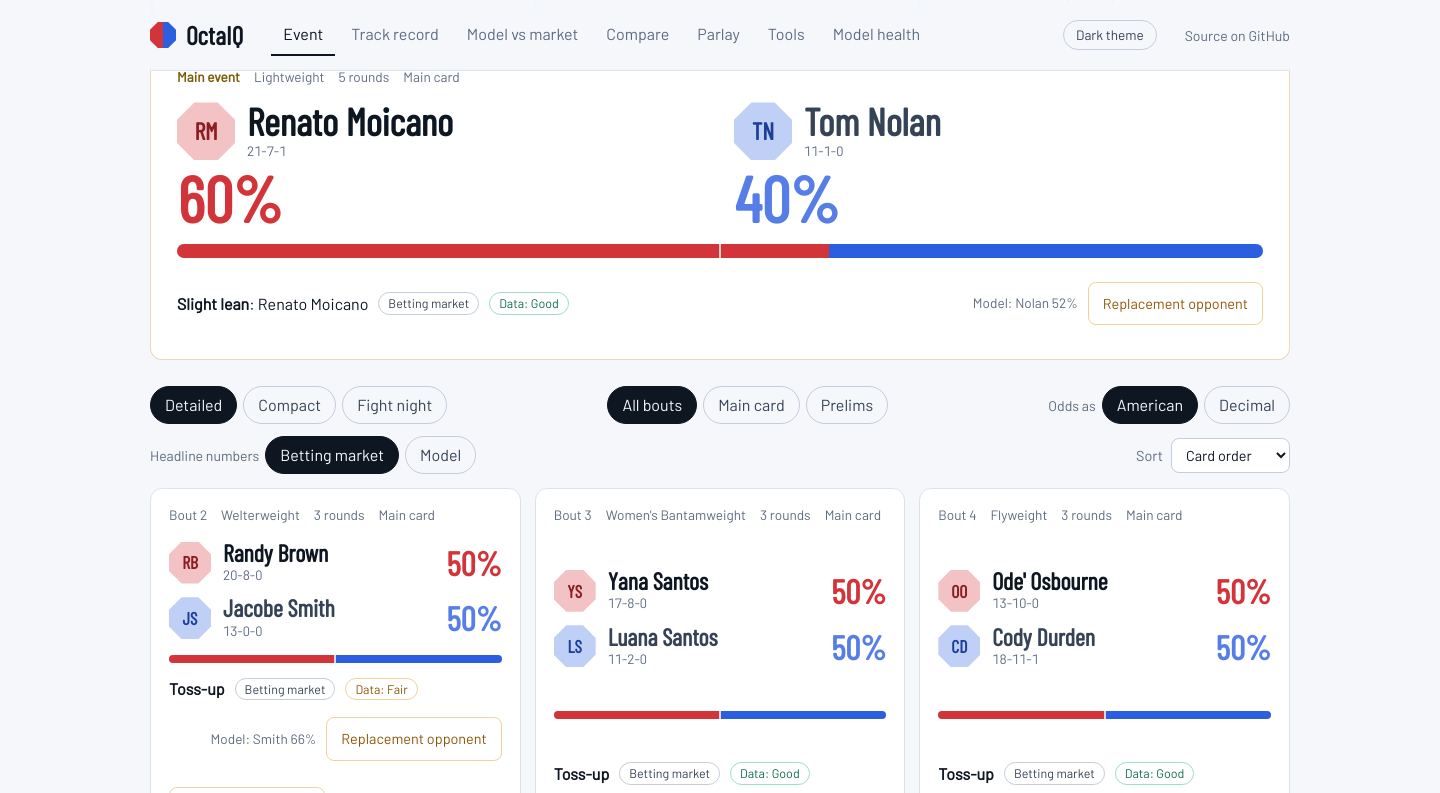
market presentation › says how current the prices are, shows fair prices in either format, and never shows bookmaker names
(page scrolled)
Expected: the element named "Price format" is shown, top-left (1048, 386), bottom-right (1290, 424)
Click the button "Decimal". click: (1247, 405)
box: top-left (1204, 386), bottom-right (1290, 424)
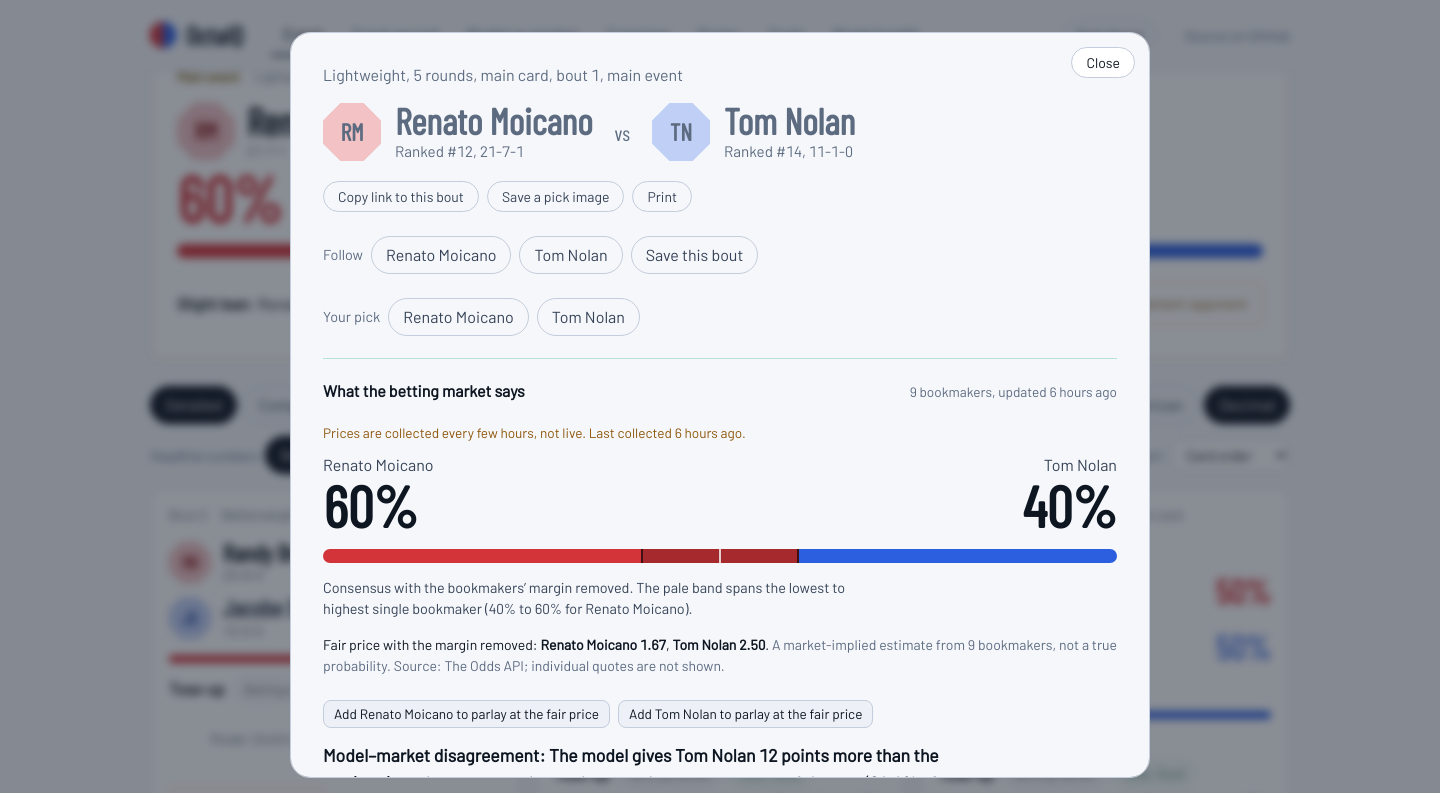
Result: the text "Renato Moicano 1.67" is shown at top-left (540, 636), bottom-right (666, 653)
